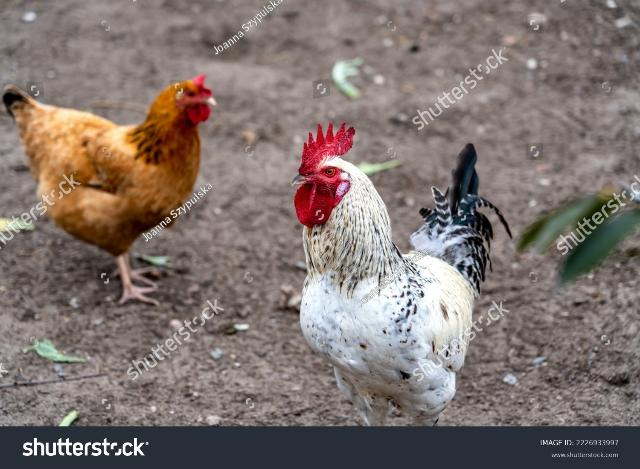Chicken: (292, 122, 511, 424), (2, 72, 220, 303)
